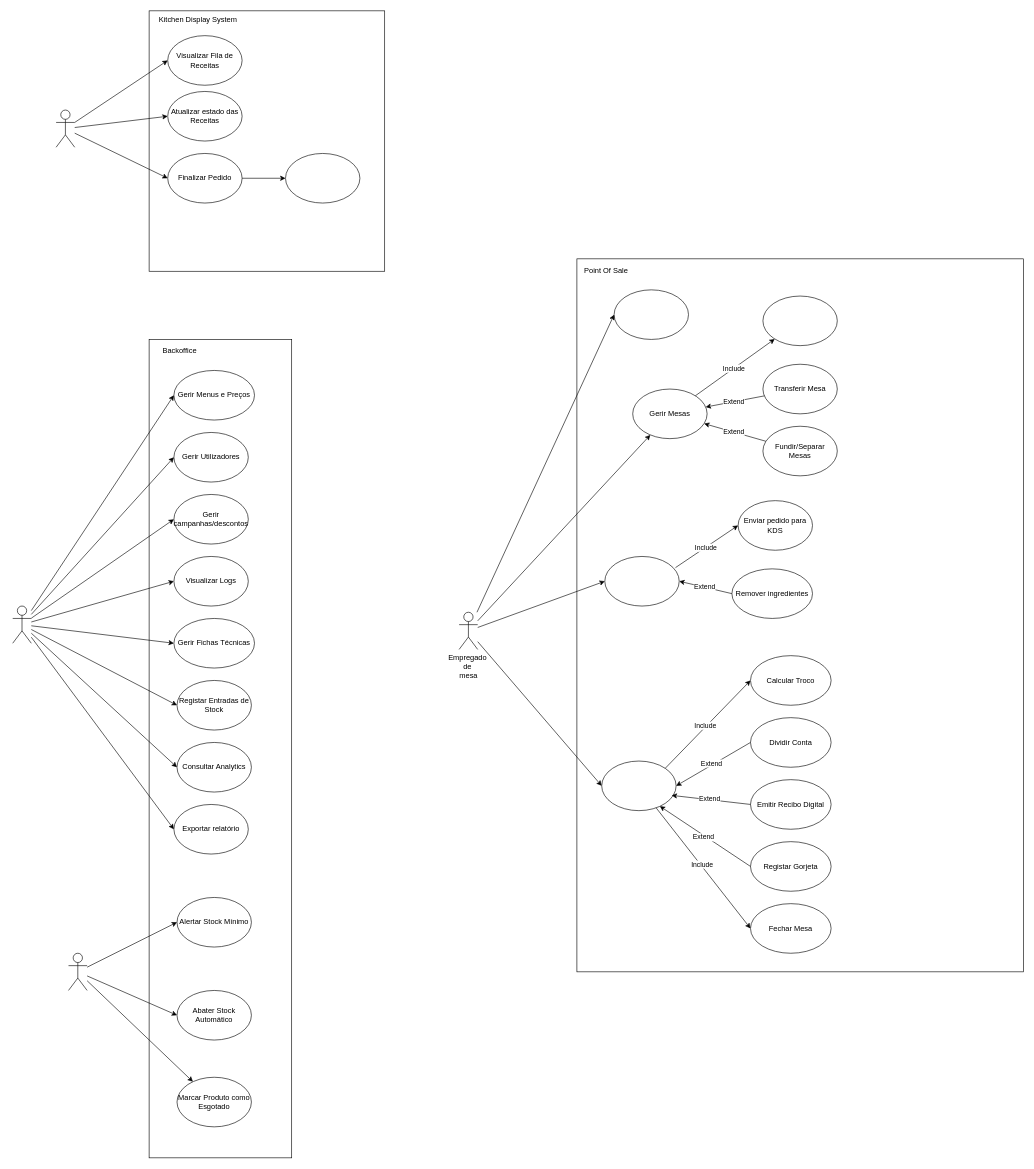
The diagram is 1034 pixels wide and 1169 high, and some of its shapes have lost their labels. The shapes that lost their labels are listed below. From the top down, each one's centre as x and y in pixels, then its label:
At (65,128): "Cozinheiro".
At (322,178): "Notificar POS".
At (651,314): "Visualizar Mapa de Mesas".
At (799,320): "Abrir Mesa".
At (641,581): "Registar Pedido".
At (21,624): "Gestor".
At (638,785): "Cobrar Pagamento".
At (77,971): "Sistema".
